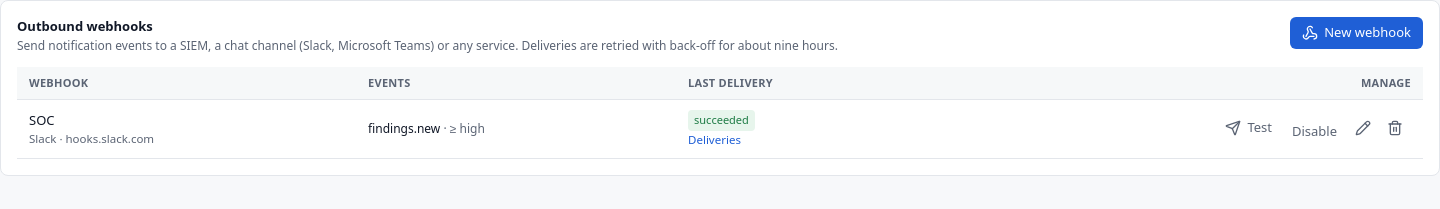
Test: webhooks › lists endpoints and sends a test message
Expected: the text "SOC" is shown, [29,110,54,128]
Expected: the text "Slack · hooks.slack.com" is shown, [29,131,154,146]
Click the button "Test".
click(1249, 128)  # box [1215,114,1282,142]
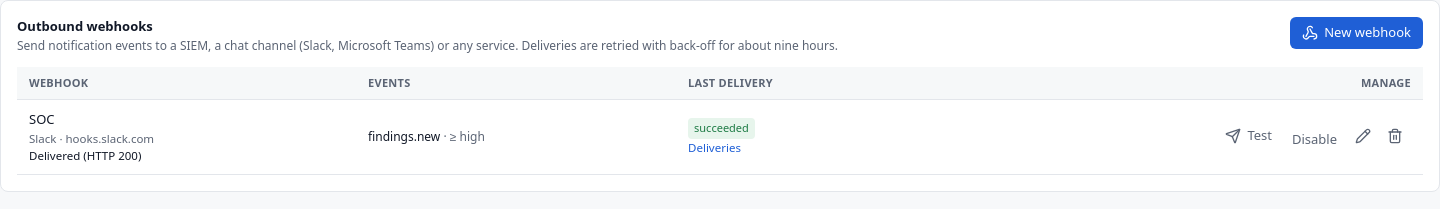
Expected: the text "Delivered (HTTP 200)" is shown, [29,148,141,163]
